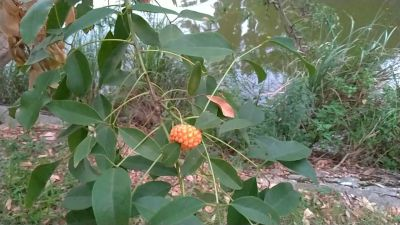eggs: (164, 117, 203, 147)
